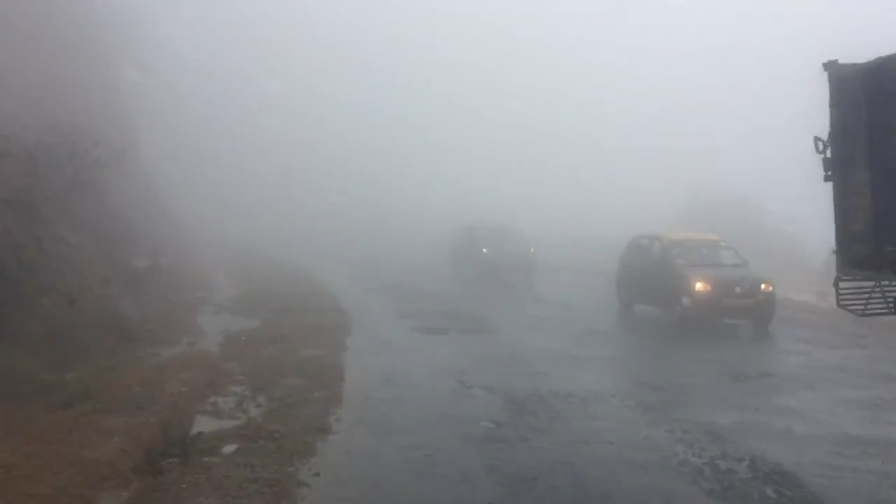bus: (812, 51, 896, 318)
car: (616, 232, 777, 329), (451, 221, 537, 281)
